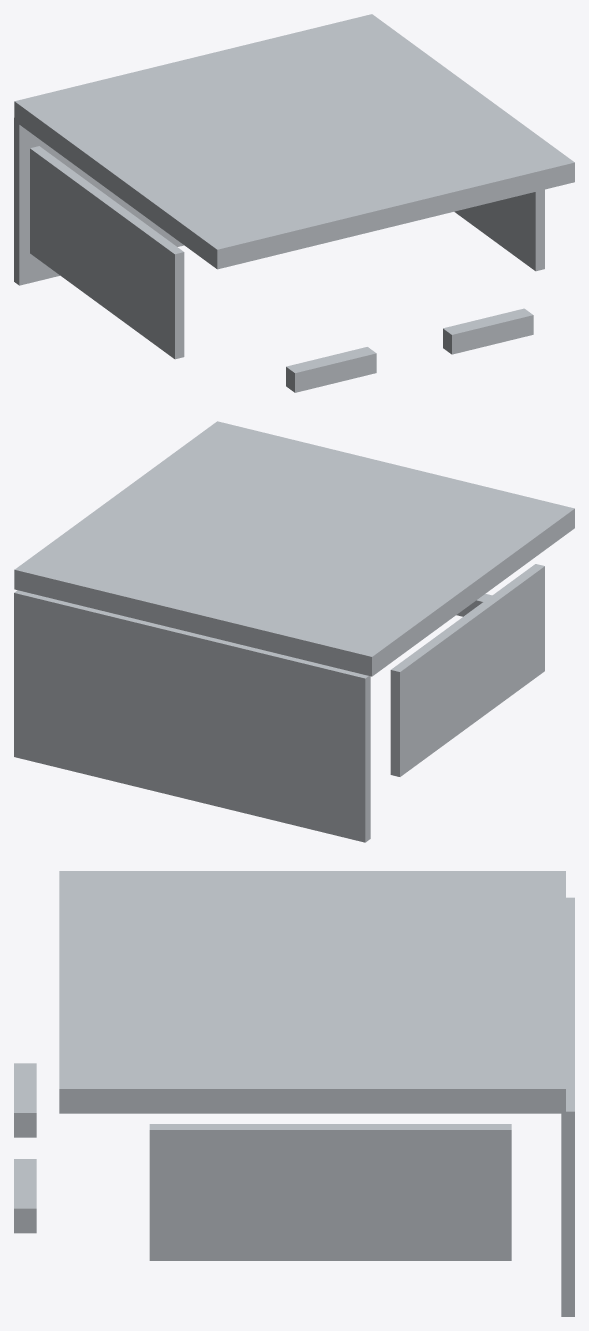
The model's file is npc_gear_hair_buzz.fbx.
3 renders of one model, top to bottom at view 1: azimuth 30°, elevation 25°; view 2: azimuth 150°, elevation 25°; view 3: azimuth 270°, elevation 25°, orthographic. The views are drawn at different scales.
Parts seen in each view (by area): view 1: npc_gear_hair_buzz; view 2: npc_gear_hair_buzz; view 3: npc_gear_hair_buzz.
Part boxes in pixels (x1,y1,x2,y2): npc_gear_hair_buzz: [14, 14, 574, 392]; npc_gear_hair_buzz: [14, 421, 574, 842]; npc_gear_hair_buzz: [14, 871, 574, 1316].
Bounding box in the file's own units: 118 × 56 × 124.
